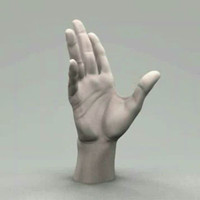finger: (70, 17, 96, 73), (88, 29, 112, 76), (65, 28, 85, 80), (68, 60, 80, 95)
